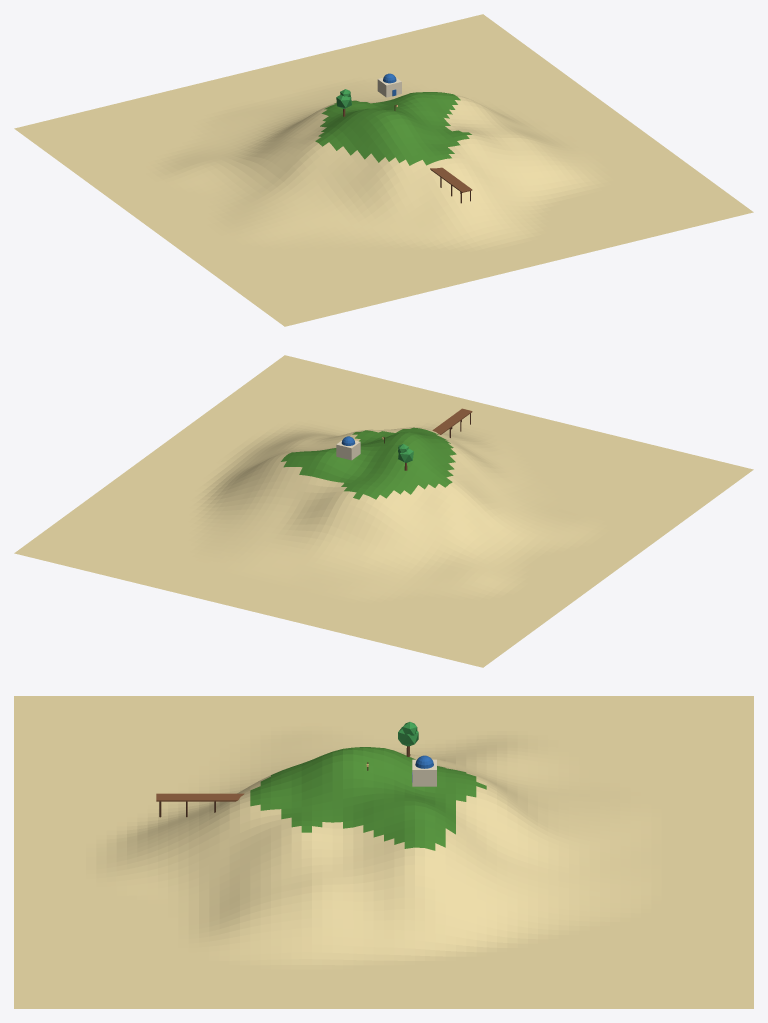
The model's file is sample.glb.
3 renders of one model, top to bottom at view 1: azimuth 30°, elevation 25°; view 2: azimuth 150°, elevation 25°; view 3: azimuth 270°, elevation 25°, orthographic. The views are drawn at different scales.
Visible parts, largest first — view 1: Đảo; view 2: Đảo; view 3: Đảo, Cầu cảng, Nhà vòm.
Boxes of the visible parts, left/top/right/bottom form: Đảo: left=14, top=14, right=753, bottom=326; Đảo: left=14, top=355, right=753, bottom=667; Đảo: left=14, top=696, right=753, bottom=1008; Cầu cảng: left=156, top=793, right=244, bottom=817; Nhà vòm: left=412, top=755, right=436, bottom=786.
Size of the model in its own units: 182 by 30.25 by 182.
